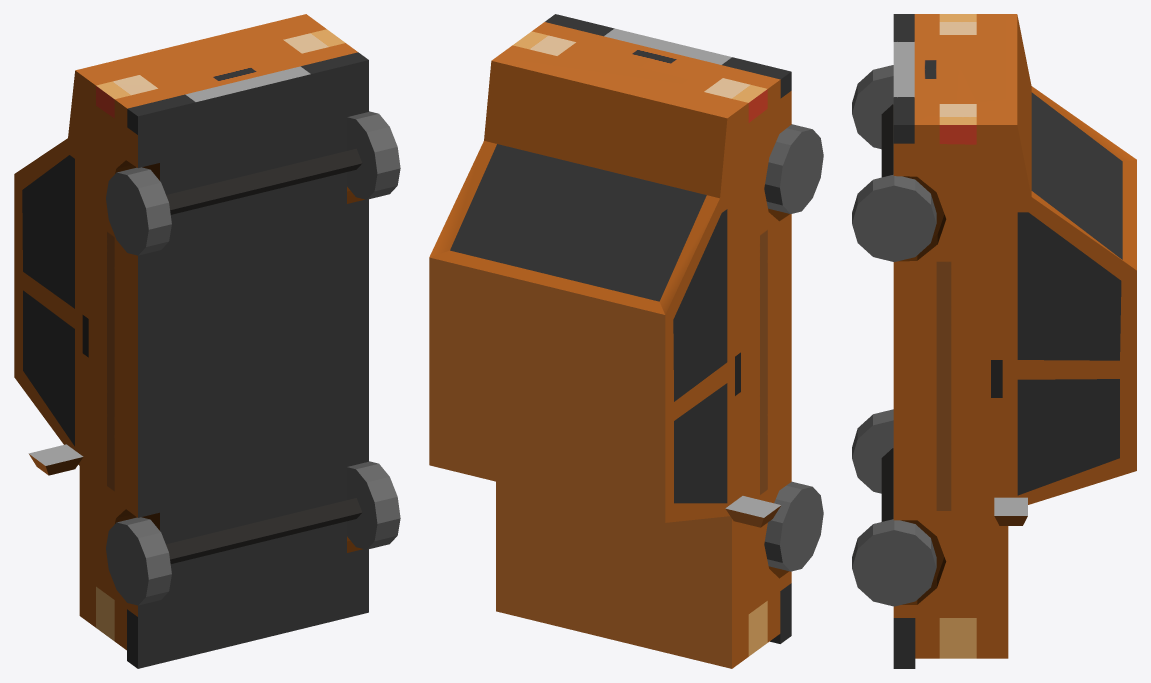
The model's file is car_seperate.fbx.
3 renders of one model, left to right at view 1: azimuth 30°, elevation 25°; view 2: azimuth 150°, elevation 25°; view 3: azimuth 270°, elevation 25°, orthographic. The views are drawn at different scales.
Parts seen in each view (by area): view 1: car_seperate, wheel; view 2: car_seperate, wheel; view 3: car_seperate, wheel.
Part boxes in pixels (x1,y1,x2,y2): car_seperate: (14,14,368,668); wheel: (106,111,400,605); car_seperate: (429,14,791,668); wheel: (764,124,823,571); car_seperate: (881,14,1136,668); wheel: (852,65,936,606).
Bounding box in the file's own units: 124 × 210 × 99.48.
2 materials, 1 textured.
